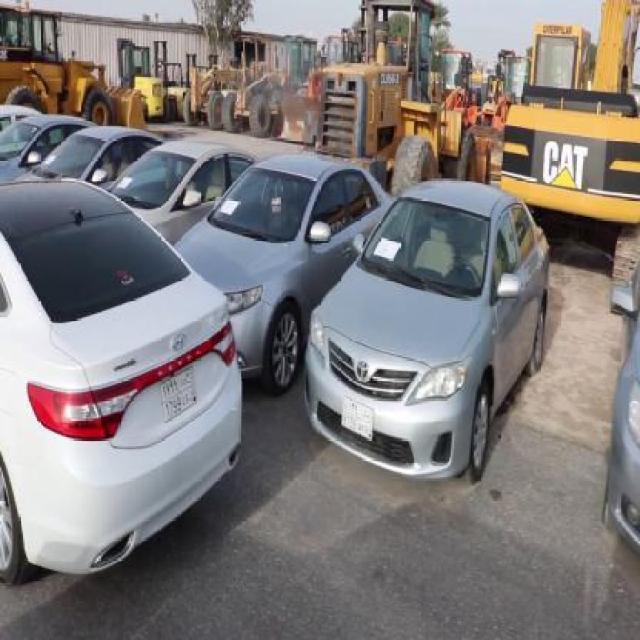license_plate: (157, 359, 198, 427), (340, 395, 375, 442)
